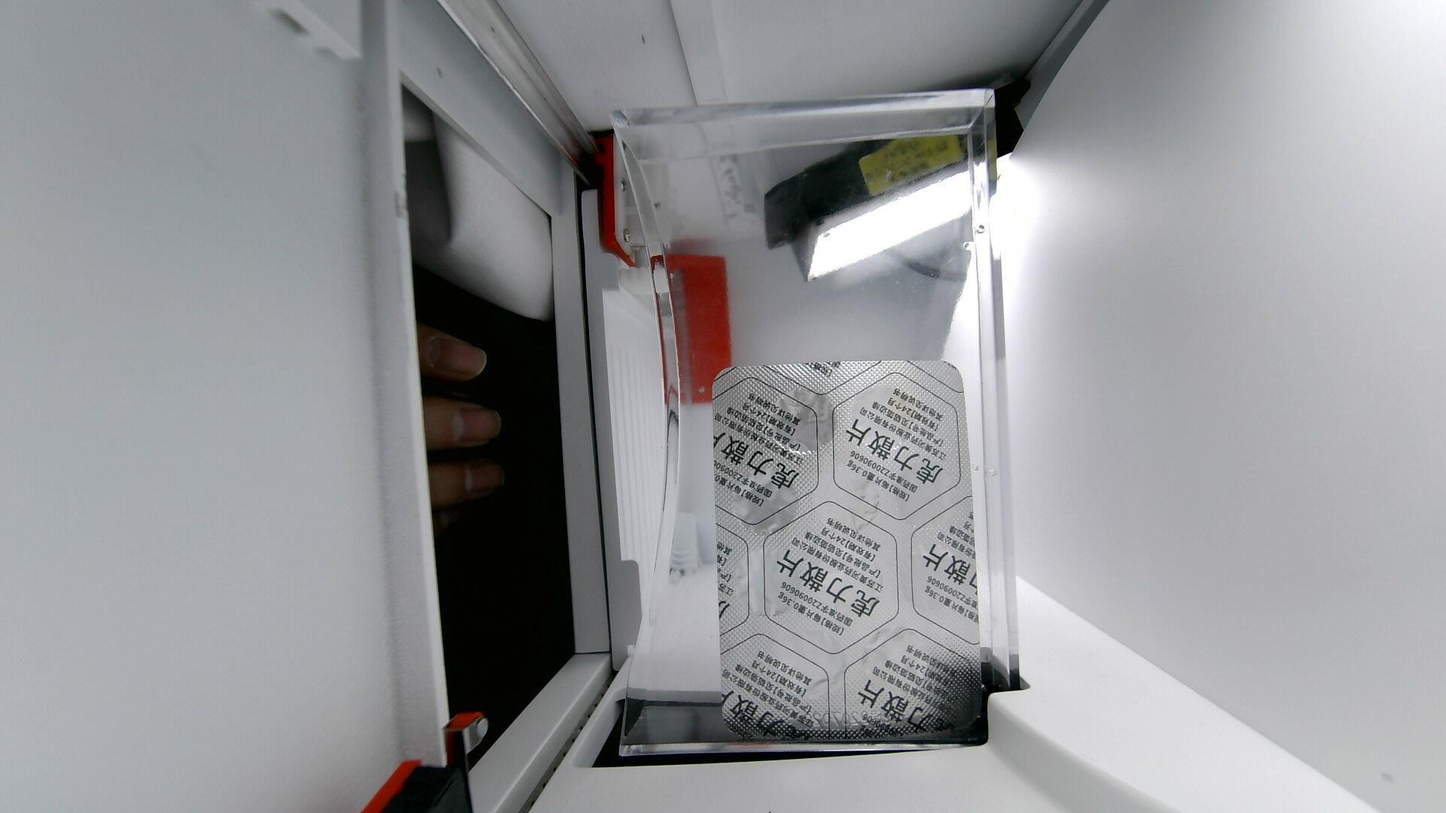Pill Back: (758, 388, 840, 453), (737, 550, 810, 619), (865, 627, 939, 695), (734, 476, 804, 537), (775, 635, 847, 692), (860, 388, 926, 450), (829, 550, 894, 611), (823, 474, 884, 534), (898, 472, 959, 532), (906, 546, 963, 609)
